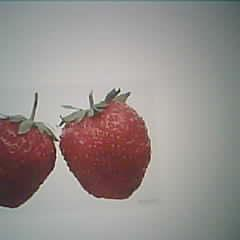straw-ripe: (60, 103, 151, 200), (0, 112, 56, 208)
